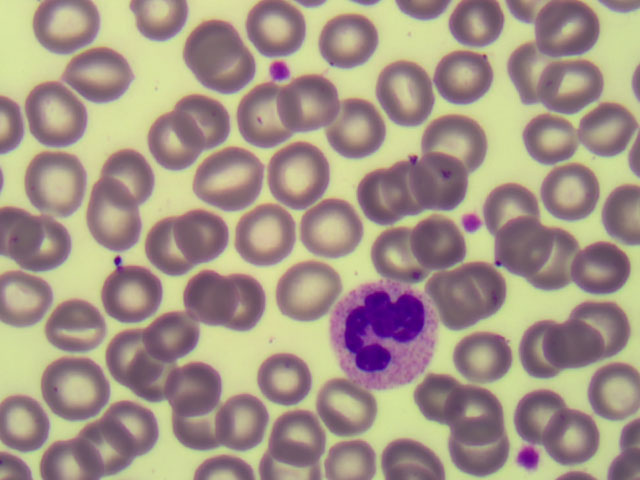Platelets: (266, 53, 295, 86), (460, 204, 484, 241), (517, 445, 541, 472)
RBC: (37, 413, 101, 480), (67, 38, 131, 104), (20, 83, 84, 149), (29, 2, 93, 68), (24, 150, 88, 216), (12, 209, 76, 275), (95, 261, 159, 327), (77, 184, 141, 250), (105, 139, 169, 205), (133, 117, 197, 183), (164, 94, 228, 160), (198, 42, 262, 108), (177, 5, 241, 71), (196, 145, 260, 211), (230, 205, 294, 271), (181, 197, 245, 263), (135, 214, 199, 280), (173, 266, 237, 332), (218, 268, 282, 334), (149, 300, 213, 366), (119, 340, 183, 406), (99, 329, 163, 395), (44, 352, 108, 418), (102, 392, 166, 458), (79, 407, 143, 473), (6, 396, 70, 462), (210, 388, 274, 454), (166, 386, 230, 452), (162, 346, 226, 412), (244, 347, 308, 413), (257, 395, 321, 461), (312, 374, 376, 440), (273, 255, 337, 321), (299, 194, 363, 260), (261, 146, 325, 212), (285, 69, 349, 135), (240, 78, 304, 144), (321, 98, 385, 164), (367, 64, 431, 130), (248, 1, 314, 53), (379, 423, 438, 480), (322, 423, 381, 480), (436, 110, 495, 167), (320, 12, 379, 68), (430, 51, 489, 107), (446, 1, 505, 57), (541, 60, 600, 116), (502, 45, 561, 101), (581, 101, 640, 157), (520, 107, 579, 163), (546, 173, 605, 229), (482, 170, 541, 226), (493, 227, 552, 283), (523, 235, 582, 291), (581, 239, 640, 295), (581, 297, 640, 353), (543, 314, 602, 370), (511, 320, 570, 376), (508, 382, 567, 438), (552, 417, 611, 473), (581, 354, 640, 410), (452, 328, 511, 384), (403, 363, 462, 419), (440, 378, 499, 434), (446, 417, 505, 473), (413, 155, 472, 211), (392, 158, 451, 214), (362, 168, 421, 224), (367, 222, 426, 278), (406, 214, 465, 270), (433, 273, 492, 329), (456, 253, 515, 309), (532, 1, 591, 56), (127, 1, 186, 56), (1, 268, 53, 328), (49, 300, 103, 355)
WBC: (330, 276, 440, 392)
